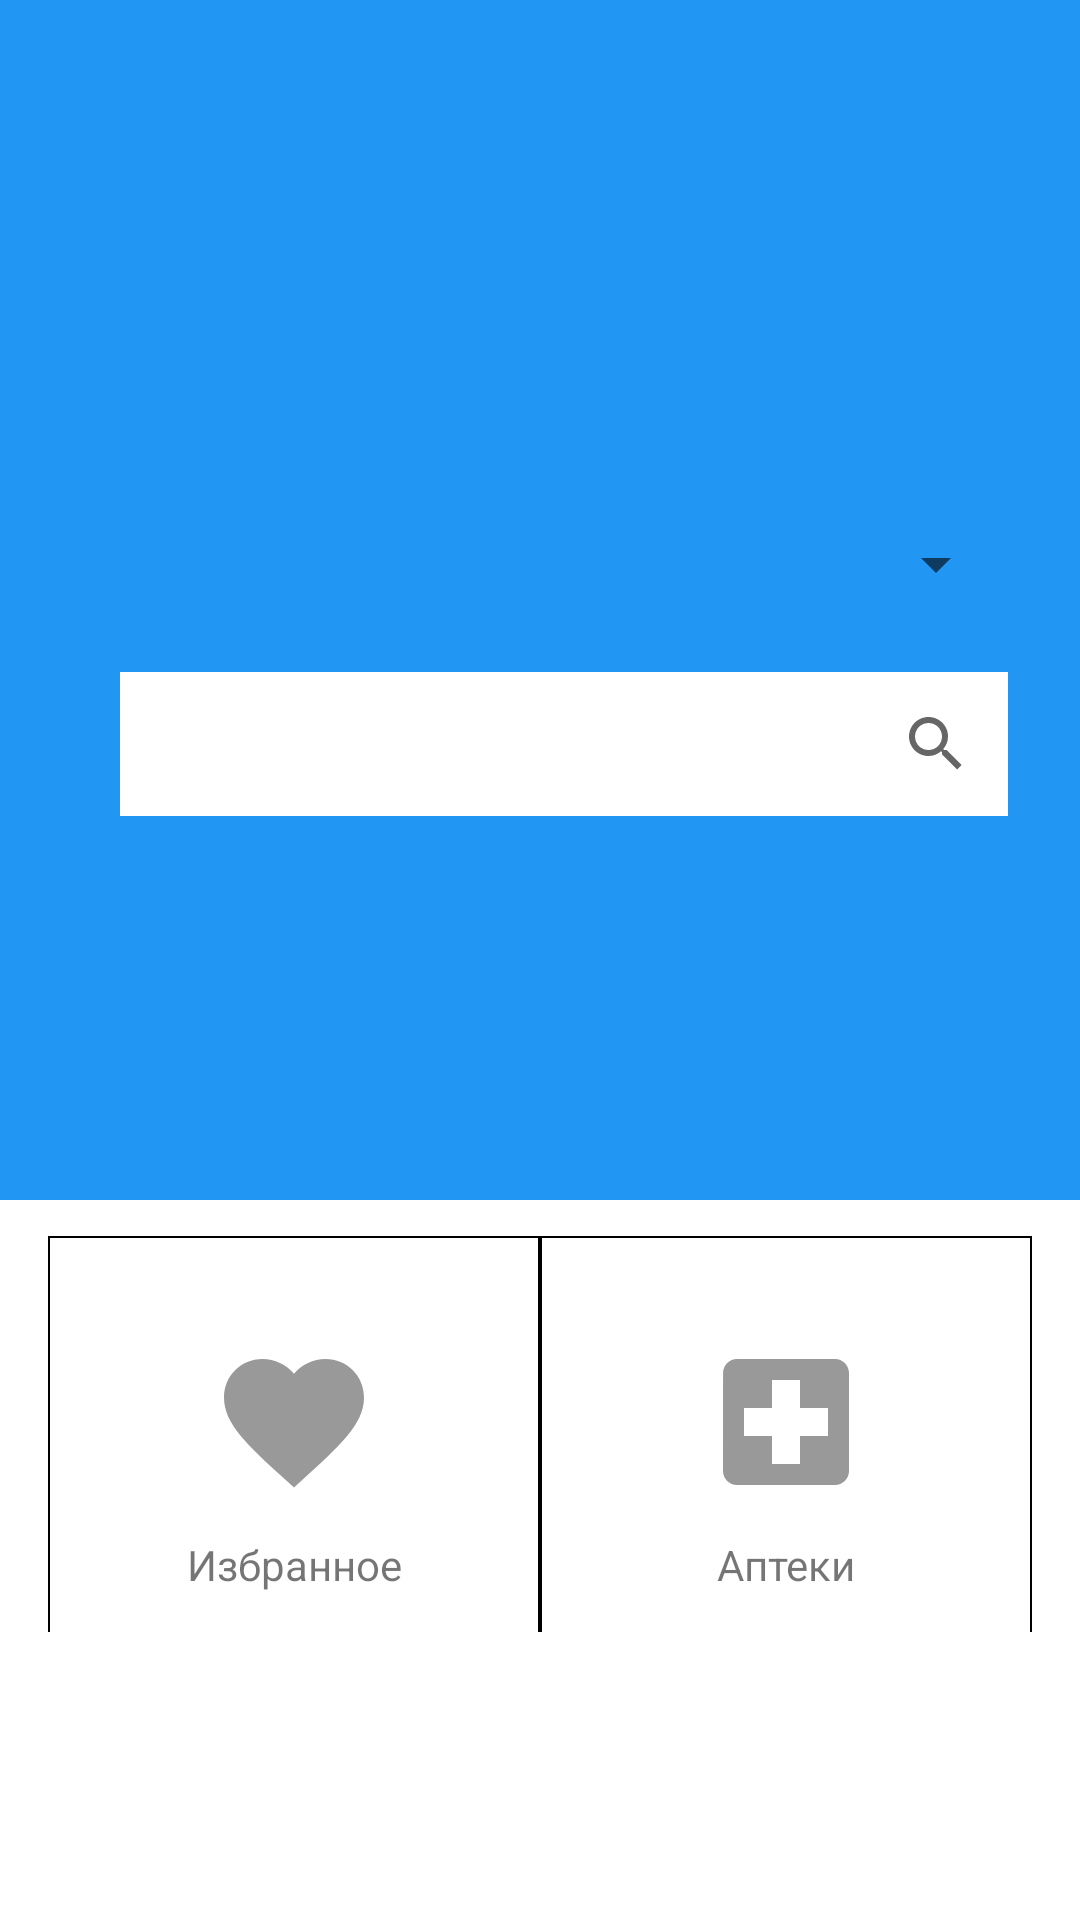

Icon click points for this 1080x1920 phone screenshot, format [x,y]:
local hospital: [786,1422]
wish list: [294,1423]
